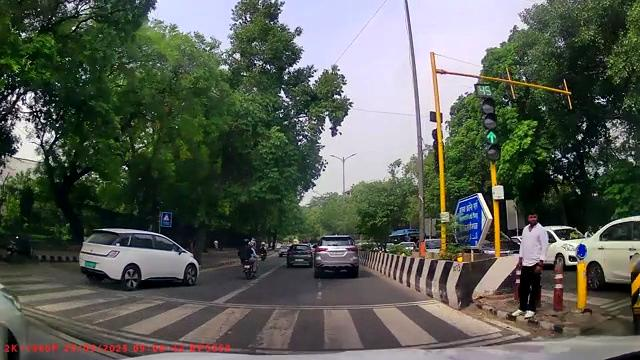motorcycle_with_helmet: (238, 237, 258, 280)
